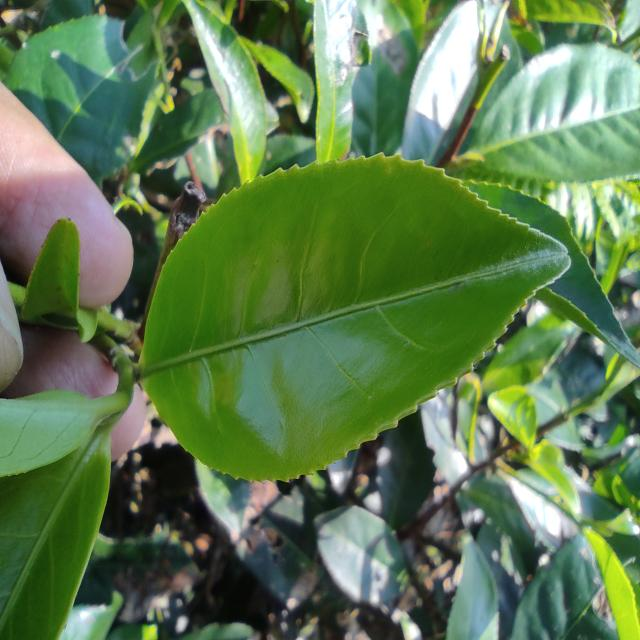Category C 4-7 days: (94, 69, 579, 537)
